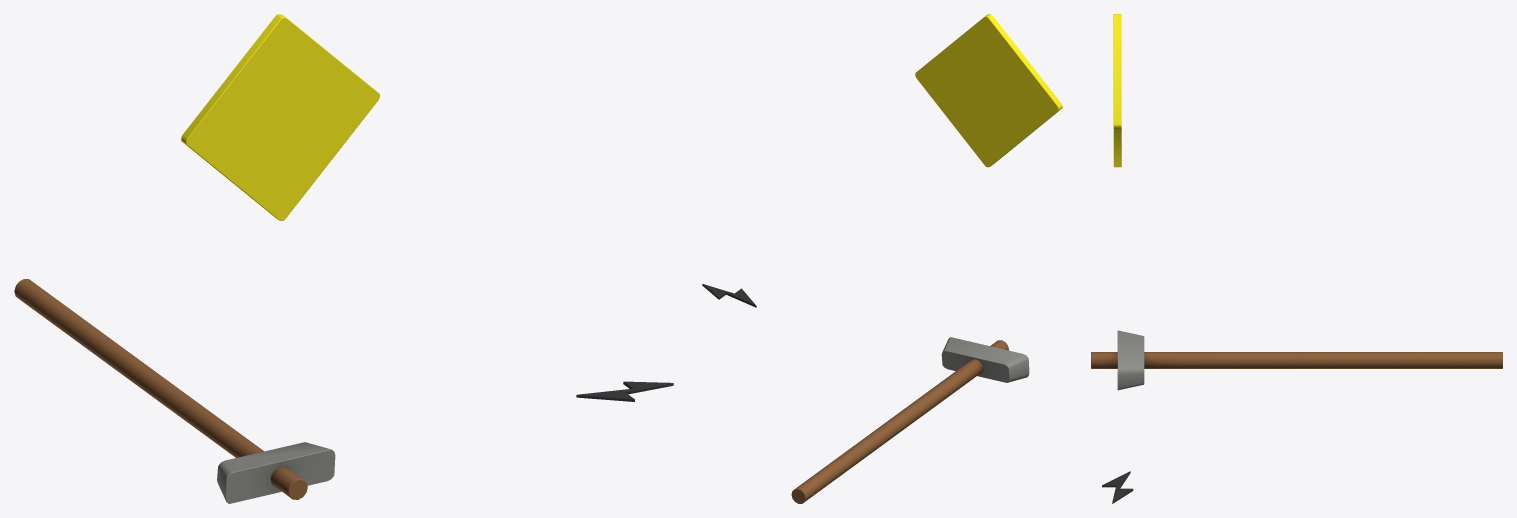
File: LV_warning_sign.glb
3 renders of one model, left to right at view 1: azimuth 30°, elevation 25°; view 2: azimuth 150°, elevation 25°; view 3: azimuth 270°, elevation 25°, orthographic. The views are drawn at different scales.
Parts seen in each view (by area): view 1: LV_warning_sign; view 2: LV_warning_sign; view 3: LV_warning_sign.
Boxes of the visible parts, box(x1,y1,x2,y2) form: LV_warning_sign: box(14, 14, 673, 503); LV_warning_sign: box(702, 14, 1062, 503); LV_warning_sign: box(1091, 14, 1502, 503).
Bounding box in the file's own units: 1.59 × 1.49 × 1.55.
1 material, 1 textured.
